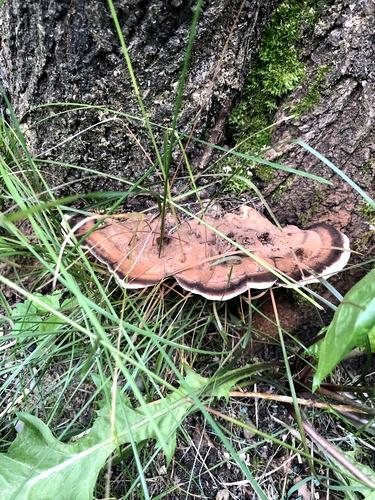Ganoderma - Fruit Body: (69, 202, 352, 301)
